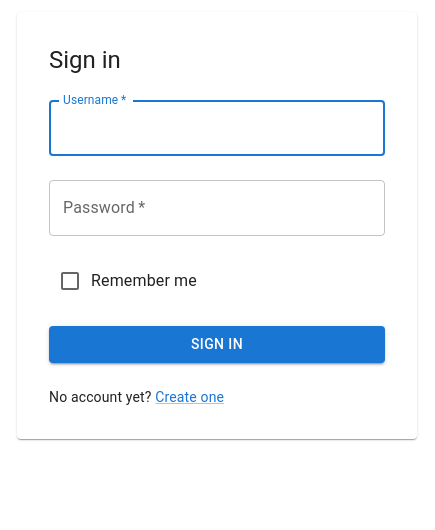
Test case: LoginRoute › returns focus to the username field after a rejected sign-in
This screenshot has width=435, height=530.
Type "somebody" into the field labelled "Username *" at [217, 128], box [49,100,385,156]
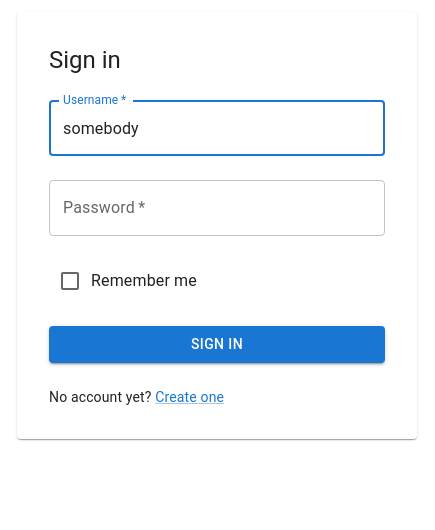
Type "wrong-password" into the password field labelled "Password *" at [217, 208], box [49,180,385,236]
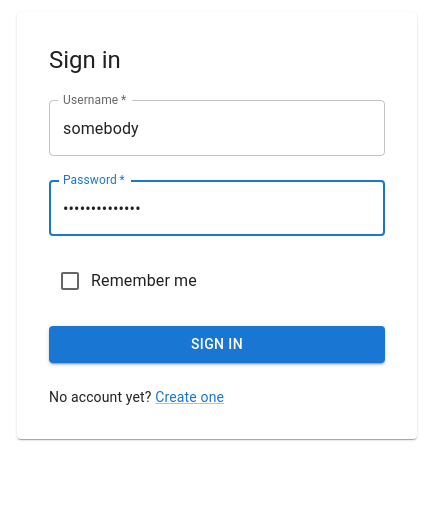
Click the button "Sign in" at [217, 344], box [49,326,385,362]
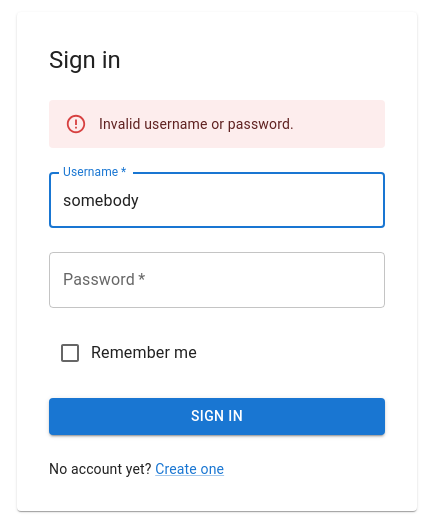
Expected: the field labelled "Username *" is enabled, [49,172,385,228]
Result: the message reads "Invalid username or password." at [99,116,294,132]
Result: the password field labelled "Password *" is empty at [49,252,385,308]
